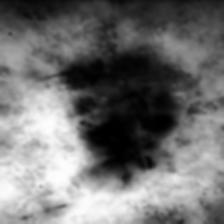Potentially Malignant Skin Tumors: (64, 48, 188, 177)
